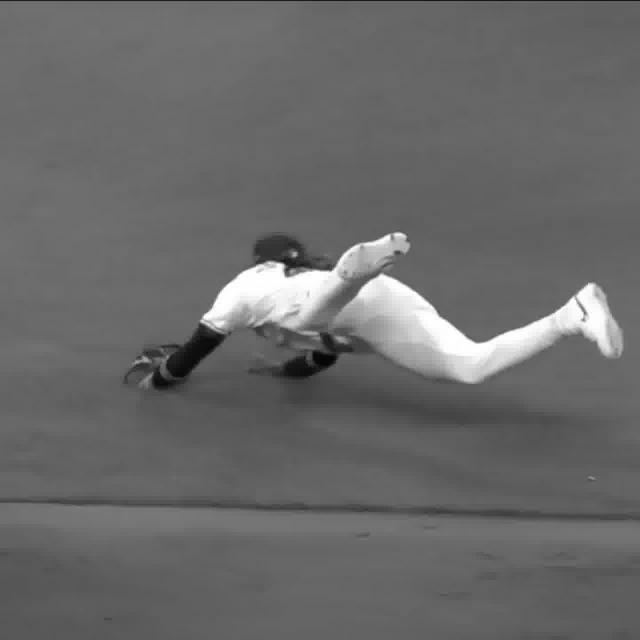baseball_glove: (127, 343, 184, 384)
shoe: (330, 230, 414, 286), (572, 280, 628, 363)
